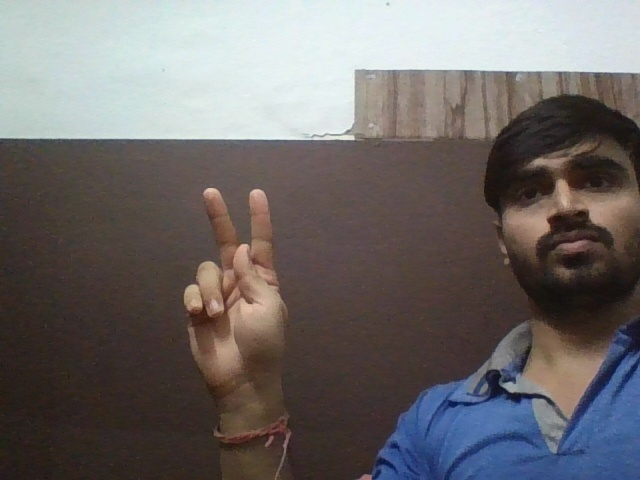K: (165, 183, 303, 406)
